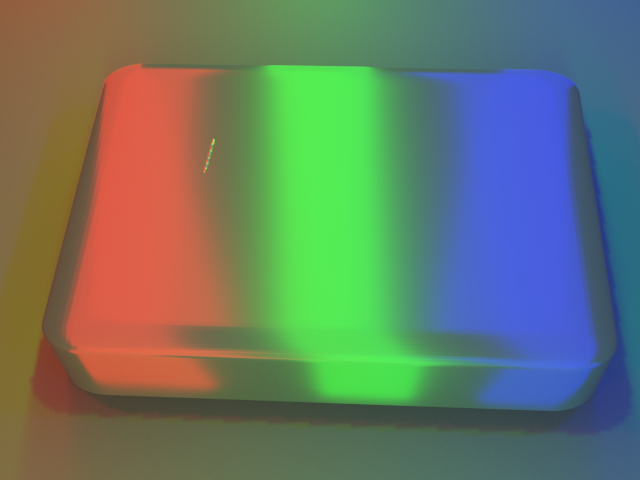scratch: (113, 101, 275, 189)
